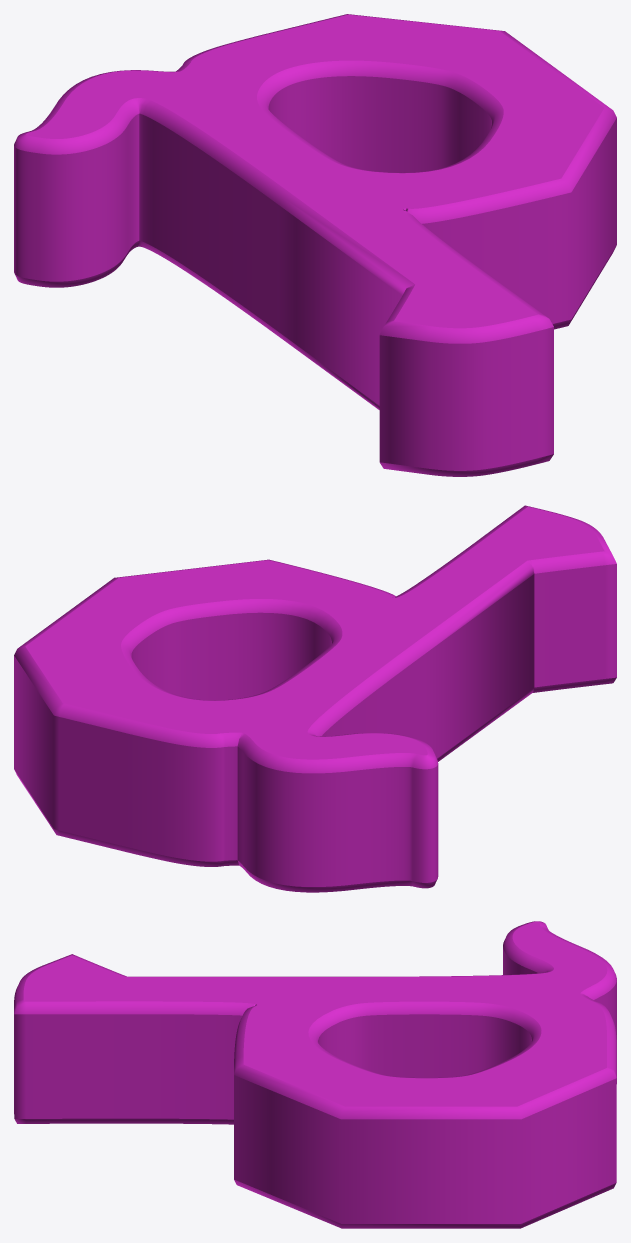
The model's file is Letter_d_Small.fbx.
3 views of the same model, one above another, from view 1: azimuth 30°, elevation 25°; view 2: azimuth 150°, elevation 25°; view 3: azimuth 270°, elevation 25° (orthographic). The views are drawn at different scales.
Visible parts, largest first — view 1: Letter_d; view 2: Letter_d; view 3: Letter_d.
Boxes of the visible parts, left/top/right/bottom form: Letter_d: left=14, top=14, right=616, bottom=476; Letter_d: left=14, top=505, right=616, bottom=892; Letter_d: left=14, top=921, right=616, bottom=1228.
Size of the model in its own units: 0.476 by 0.14 by 0.6277.
